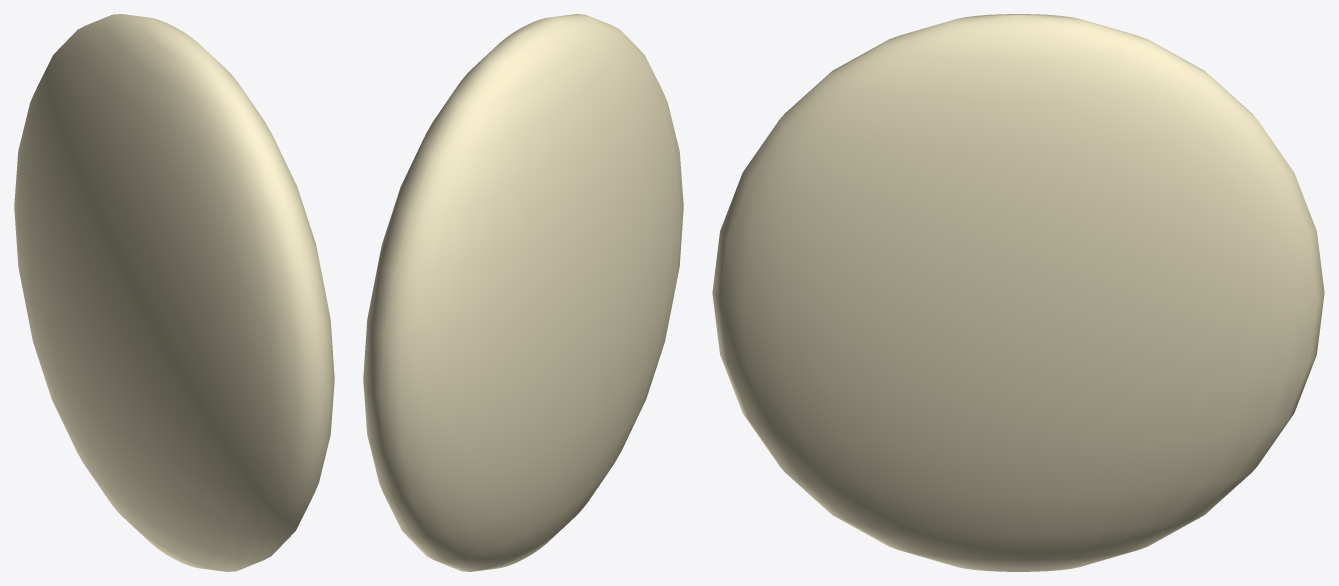
Rendered from headlight_classic.glb.
The picture shows the model from 3 angles, left to right: view 1: azimuth 30°, elevation 25°; view 2: azimuth 150°, elevation 25°; view 3: azimuth 270°, elevation 25°; orthographic projection. The views are drawn at different scales.
Visible parts, largest first — view 1: S51_Headlight_Classic; view 2: S51_Headlight_Classic; view 3: S51_Headlight_Classic.
Part boxes in pixels (x1,y1,x2,y2): S51_Headlight_Classic: (14,14,334,571); S51_Headlight_Classic: (363,14,683,571); S51_Headlight_Classic: (712,14,1324,571).
Bounding box in the file's own units: 0.13 × 0.44 × 0.44.
